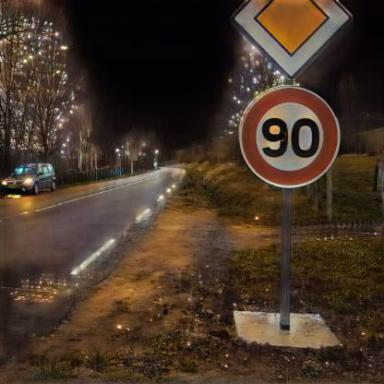Speed_limit_90: (243, 88, 337, 185)
